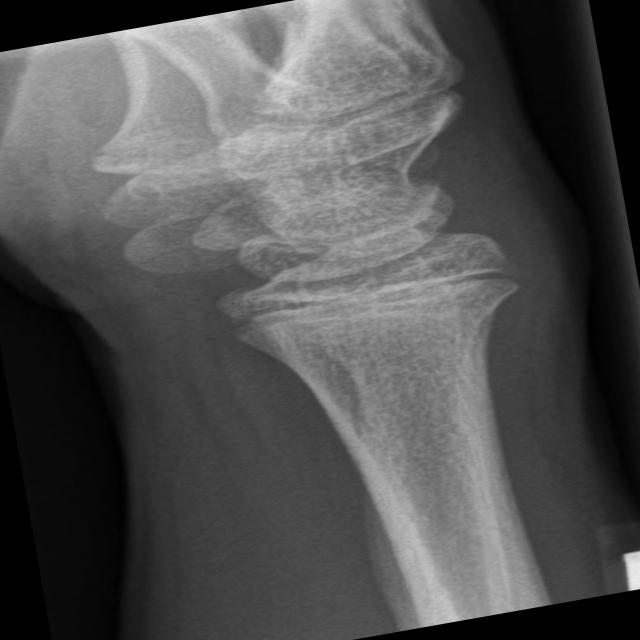fracture: (200, 236, 568, 358)
